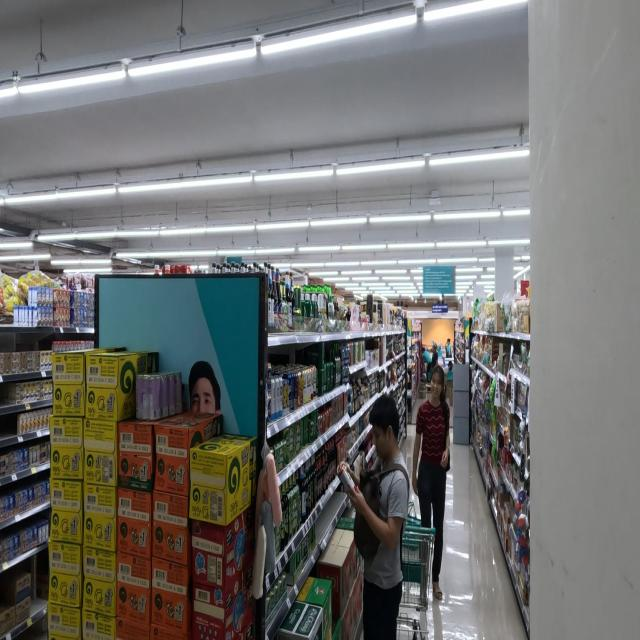shoplifting: (340, 390, 405, 640)
